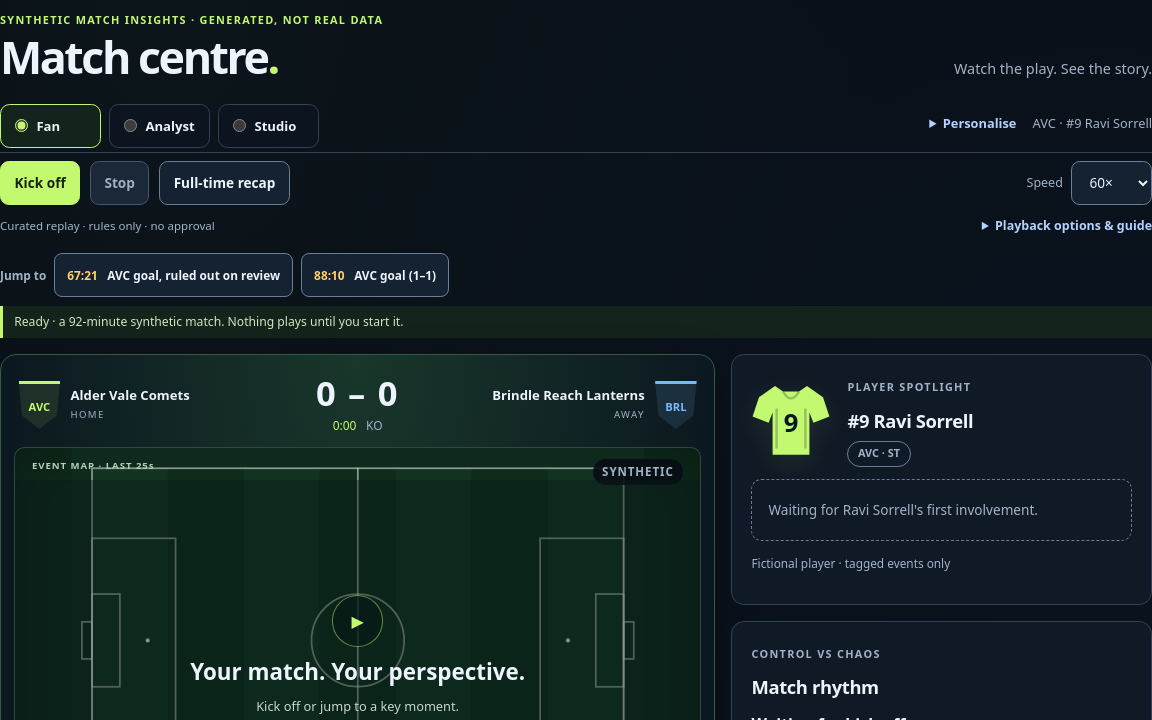
Test: switching to operator-gated mode › offers the gated speeds with 10× as the default, the honest note, the narration status and the 66:00 jump
Check: the element with test id "scorebug" is shown, box left=14, top=368, right=702, bottom=447
Click the heading "Personalise AVC · #9 Ravi Sorrell" at {"x": 1047, "y": 123}, box left=943, top=114, right=1151, bottom=132
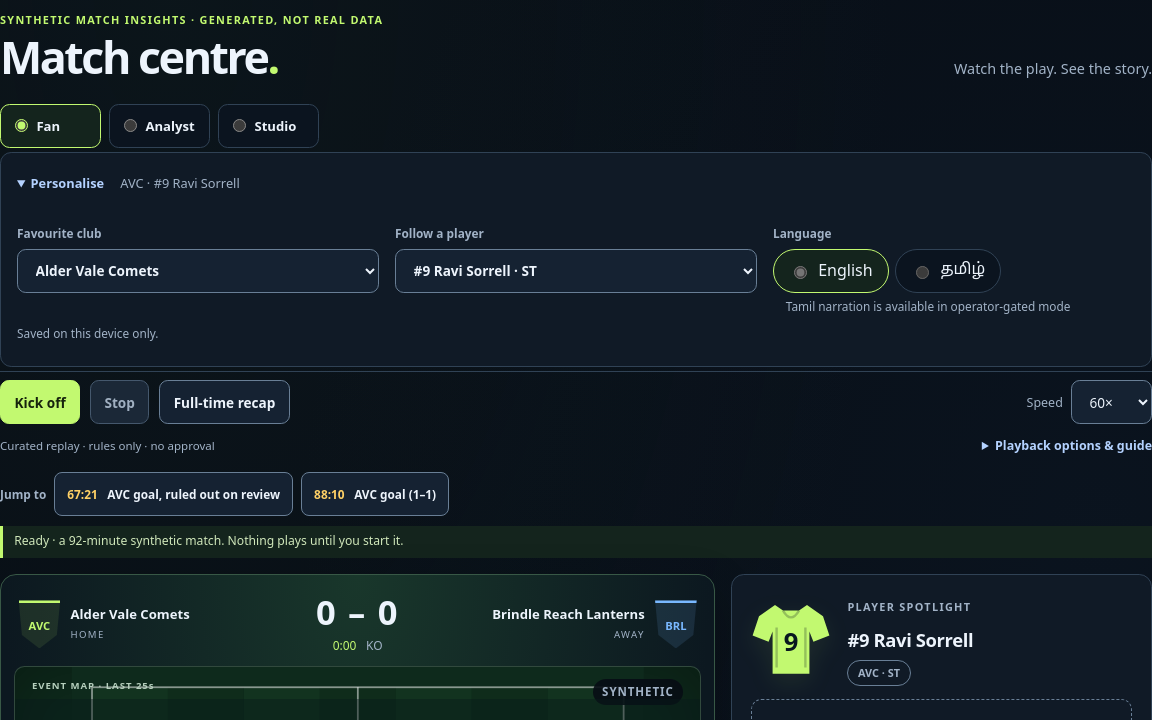
Click the heading "Playback options & guide" at {"x": 1074, "y": 445}, box left=995, top=436, right=1151, bottom=454
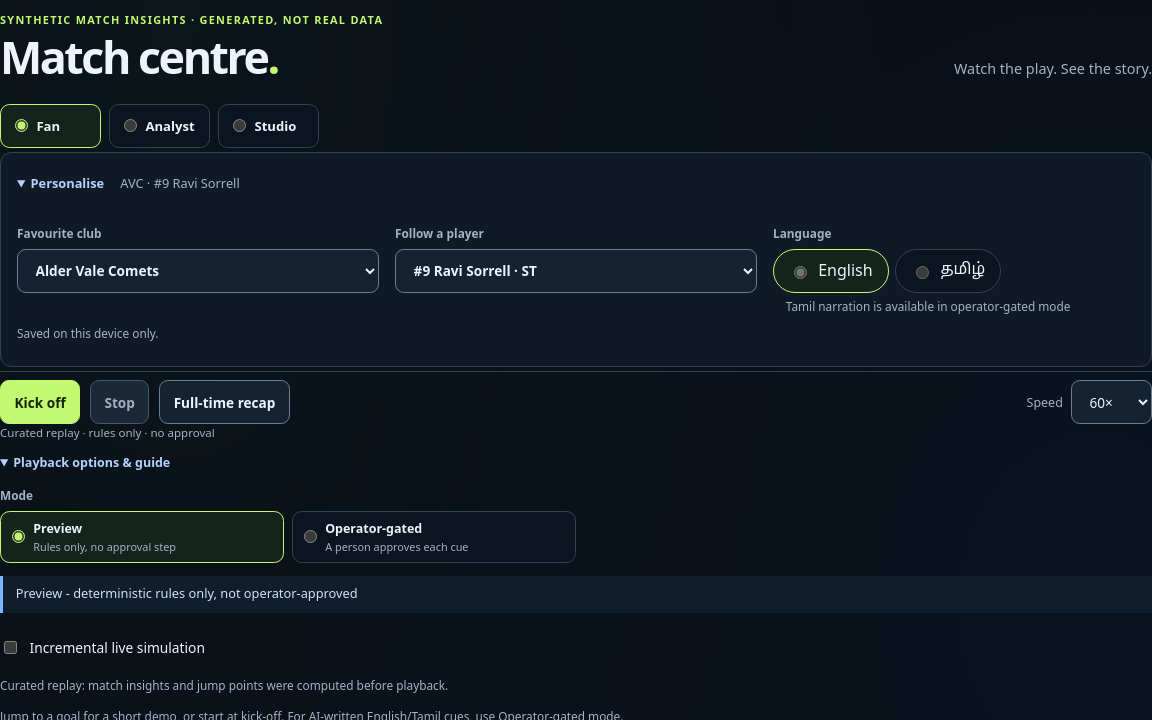
Click the radio button labelled "Operator-gated A person approves each cue" at {"x": 311, "y": 537}, box left=304, top=530, right=317, bottom=543
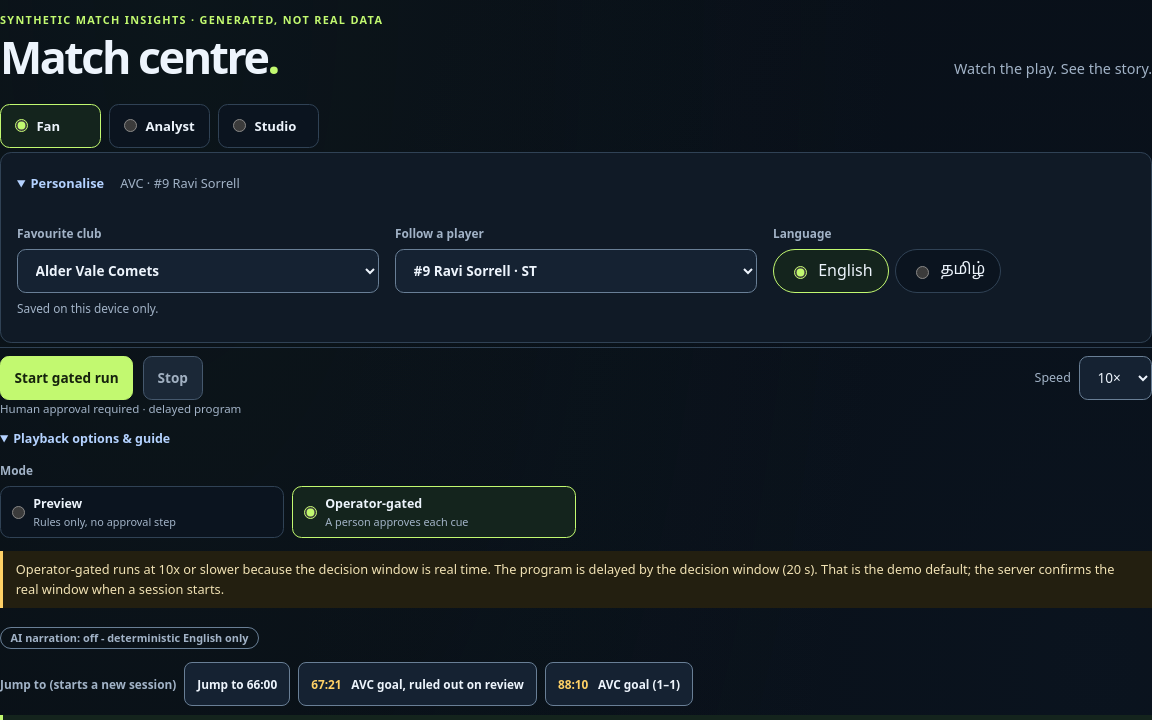
Check: the radio button labelled "Operator-gated A person approves each cue" is checked, box left=304, top=506, right=317, bottom=519
Check: the dropdown labelled "Speed" shows "10×", box left=1079, top=356, right=1151, bottom=400
Check: the text with test id "mode-note" shows "Operator-gated runs at 10x or slower because the decision window is real time. The program is delayed by the decision window (20 s).", box left=16, top=560, right=1114, bottom=598
